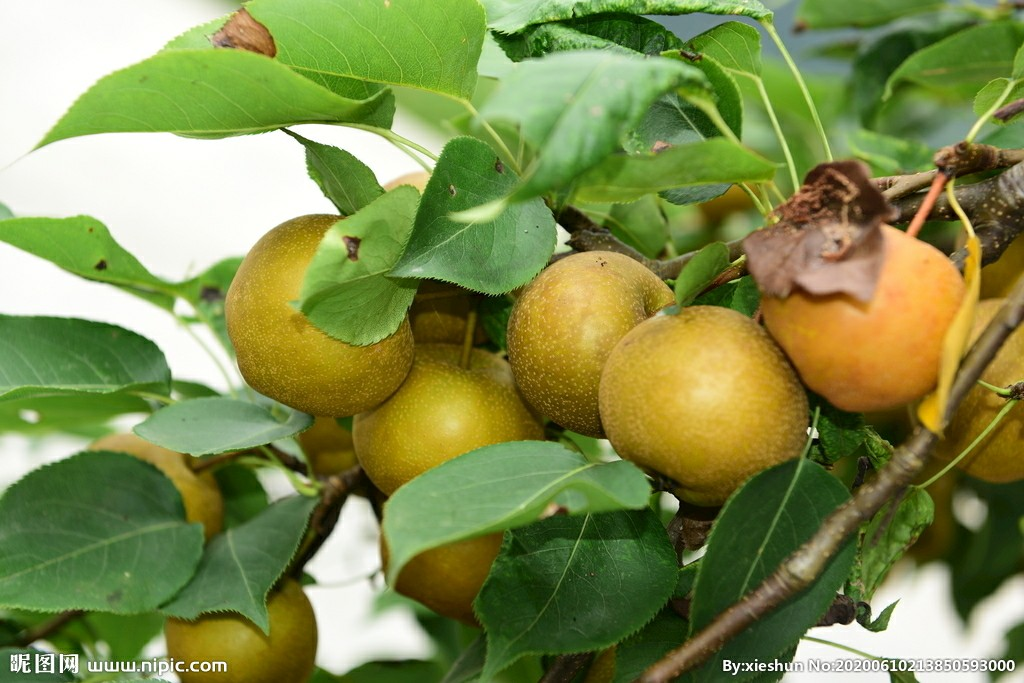pear: (597, 302, 806, 497), (759, 220, 963, 414), (224, 213, 419, 412), (503, 250, 674, 429), (350, 342, 542, 499), (922, 291, 1024, 480), (165, 558, 319, 682), (67, 433, 221, 557), (387, 504, 544, 622)
